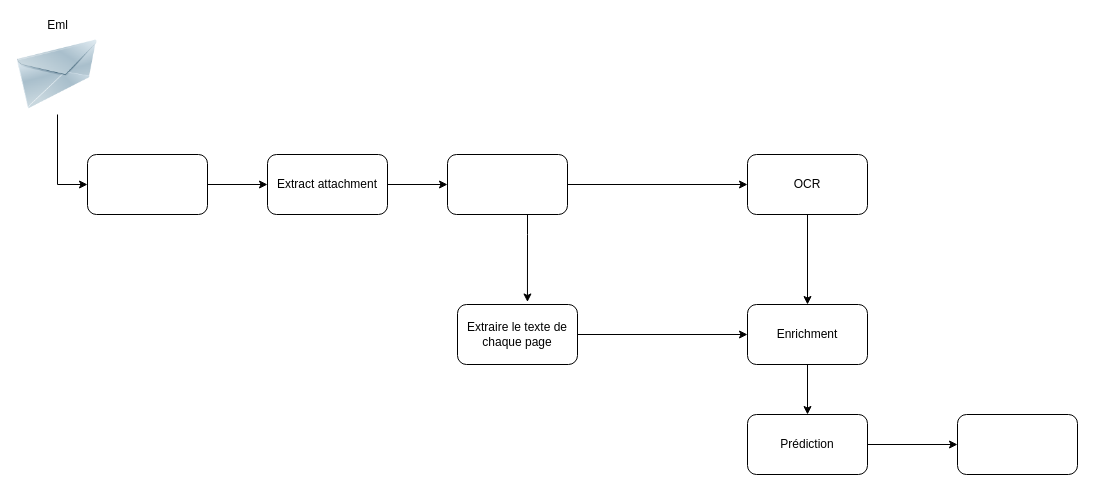
This 1095x492 diagram has some shape labels left out. The centre of each missing label's shape, as x and y in pixels:
Eml to json: the point at 147,184
Envoi au service concerné: the point at 1017,444
Splitter en plusieurs page: the point at 507,184
